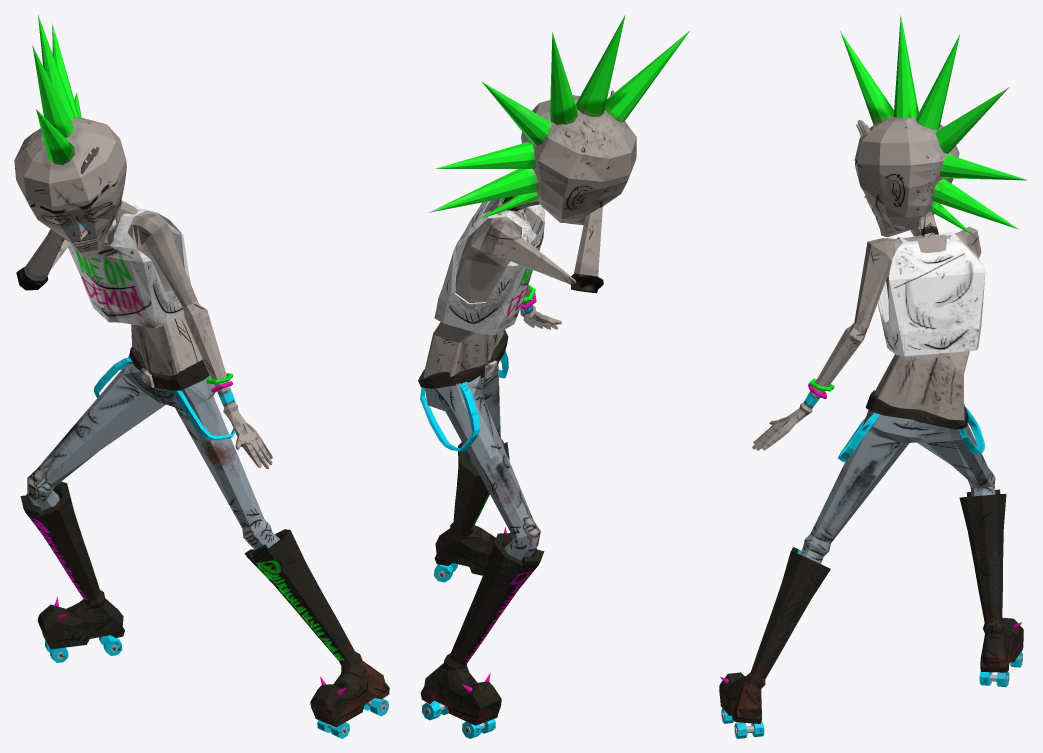
Rendered from punkAnimation_000067.obj.
The picture shows the model from 3 angles, left to right: view 1: azimuth 30°, elevation 25°; view 2: azimuth 150°, elevation 25°; view 3: azimuth 270°, elevation 25°; orthographic projection. The views are drawn at different scales.
Visible parts, largest first — view 1: Cube.004_Cube.003; view 2: Cube.004_Cube.003; view 3: Cube.004_Cube.003.
Boxes of the visible parts, x1=… form: Cube.004_Cube.003: x1=14, y1=15, x2=389, y2=738; Cube.004_Cube.003: x1=418, y1=14, x2=690, y2=738; Cube.004_Cube.003: x1=719, y1=15, x2=1027, y2=738.
Size of the model in its own units: 3.1 by 6.72 by 3.07.
